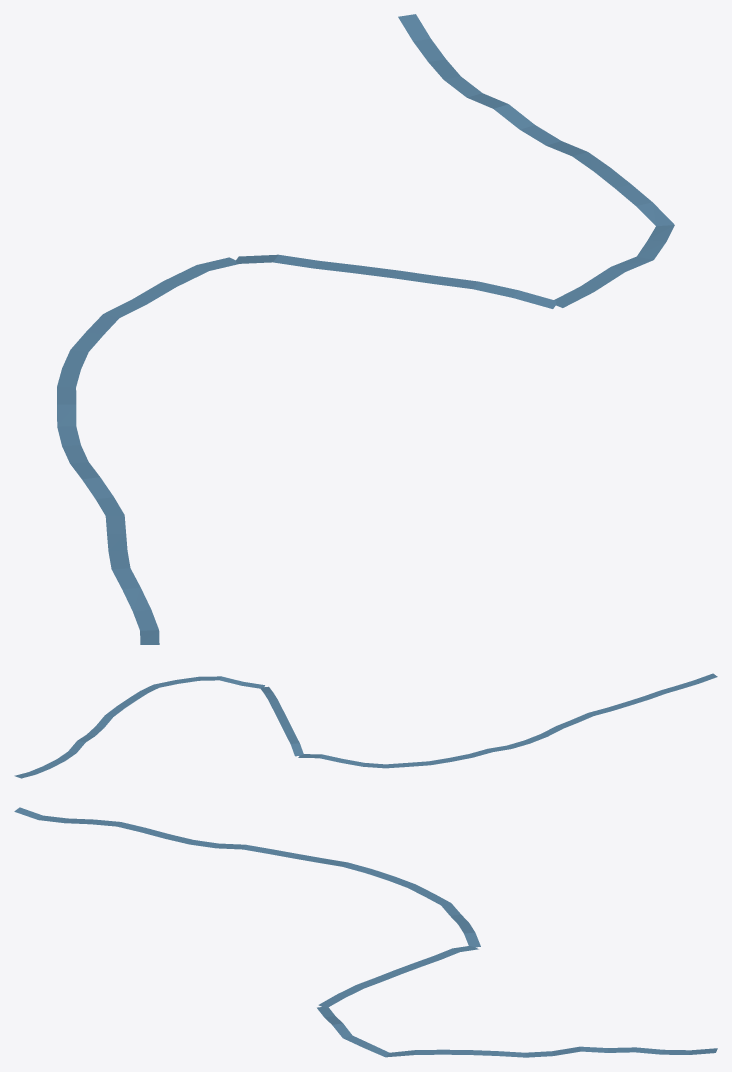
The model's file is c_1633_17836_water.glb.
3 views of the same model, one above another, from view 1: azimuth 30°, elevation 25°; view 2: azimuth 150°, elevation 25°; view 3: azimuth 270°, elevation 25° (orthographic). The views are drawn at different scales.
Parts seen in each view (by area): view 1: geometry_0; view 2: geometry_0; view 3: geometry_0.
Boxes of the visible parts, <box> form: geometry_0: <box>57,14,674,644</box>; geometry_0: <box>14,673,717,778</box>; geometry_0: <box>14,807,717,1057</box>.
Bounding box in the file's own units: 127 × 2.2 × 149.
